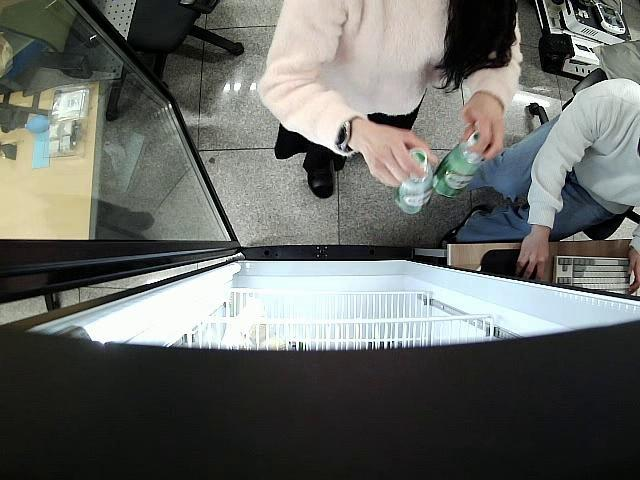18_trevi: (437, 134, 480, 196), (397, 147, 432, 214)
